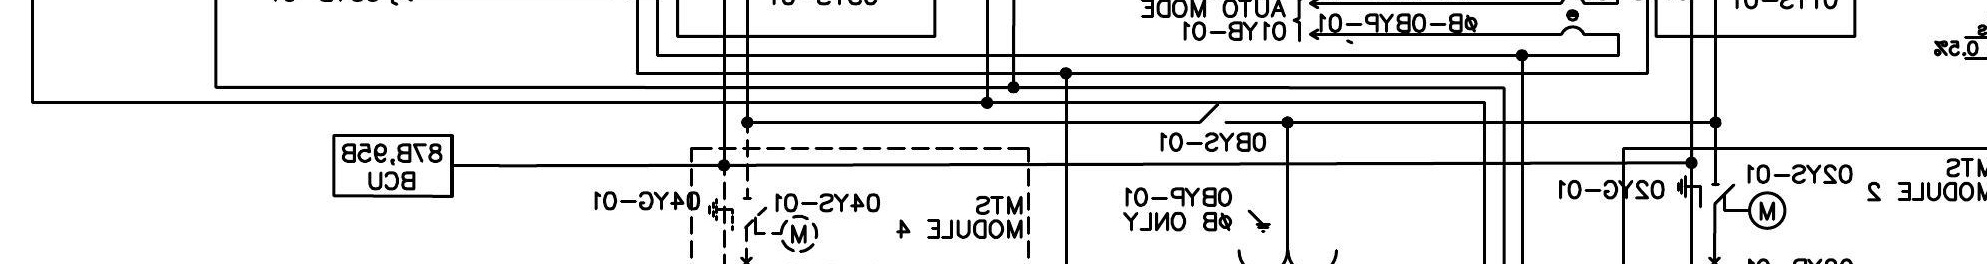115_3ways_ds_w_motor: (1675, 174, 1788, 231)
115_ds: (1199, 104, 1229, 124)
